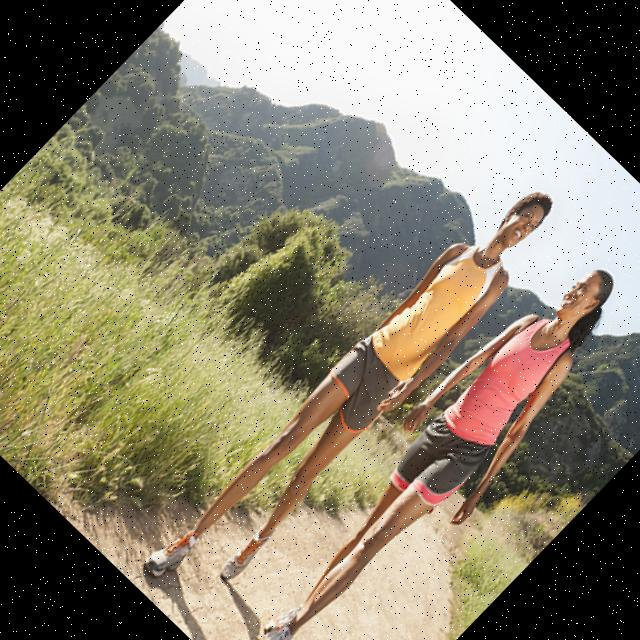Person: (140, 170, 578, 618), (203, 242, 640, 640)
